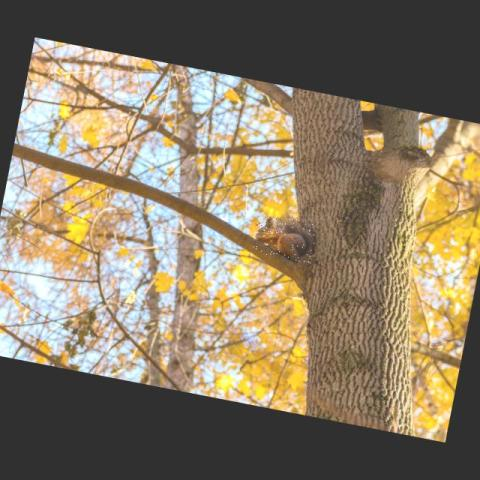small_animal: (252, 214, 316, 264)
